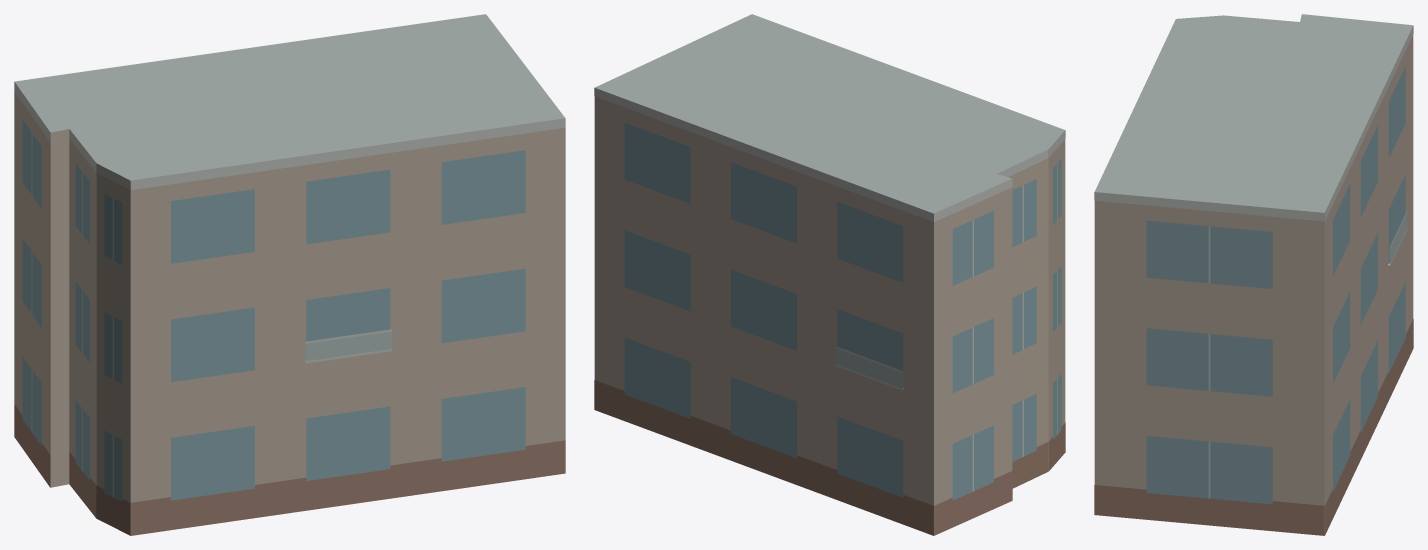
The model's file is survey-upis-32654743.glb.
The picture shows the model from 3 angles, left to right: view 1: azimuth 30°, elevation 25°; view 2: azimuth 150°, elevation 25°; view 3: azimuth 270°, elevation 25°; orthographic projection. The views are drawn at different scales.
Parts seen in each view (by area): view 1: survey-upis-32654743.tmp; view 2: survey-upis-32654743.tmp; view 3: survey-upis-32654743.tmp.
Part boxes in pixels (left/top/right/bottom): survey-upis-32654743.tmp: left=14, top=14, right=565, bottom=535; survey-upis-32654743.tmp: left=594, top=14, right=1065, bottom=535; survey-upis-32654743.tmp: left=1094, top=14, right=1413, bottom=535.
Bounding box in the file's own units: 12.03 × 9.1 × 8.16.
